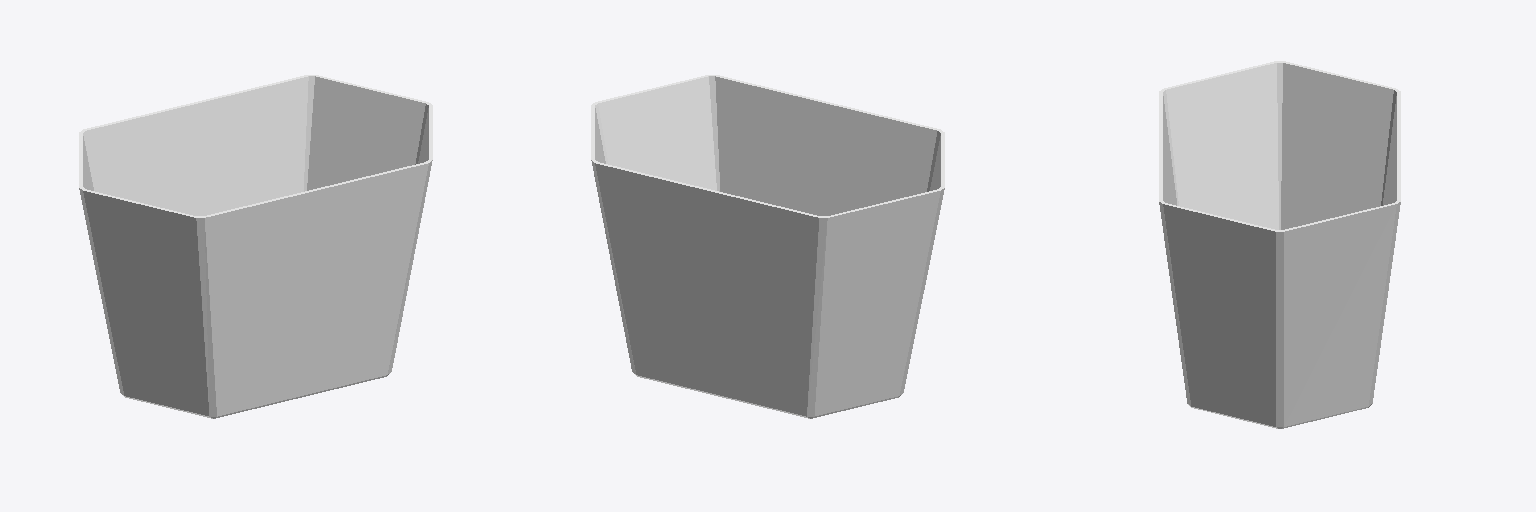
Rendered from Tablesmall_3.obj.
3 renders of one model, left to right at view 1: azimuth 30°, elevation 25°; view 2: azimuth 150°, elevation 25°; view 3: azimuth 270°, elevation 25°, orthographic.
Parts seen in each view (by area): view 1: Mesh68_Group75_Group73_Model; view 2: Mesh68_Group75_Group73_Model; view 3: Mesh68_Group75_Group73_Model.
Boxes of the visible parts, <box> form: Mesh68_Group75_Group73_Model: <box>79,75,432,418</box>; Mesh68_Group75_Group73_Model: <box>591,75,944,418</box>; Mesh68_Group75_Group73_Model: <box>1159,61,1400,428</box>.
Bounding box in the file's own units: 49.9 × 29.88 × 29.89.